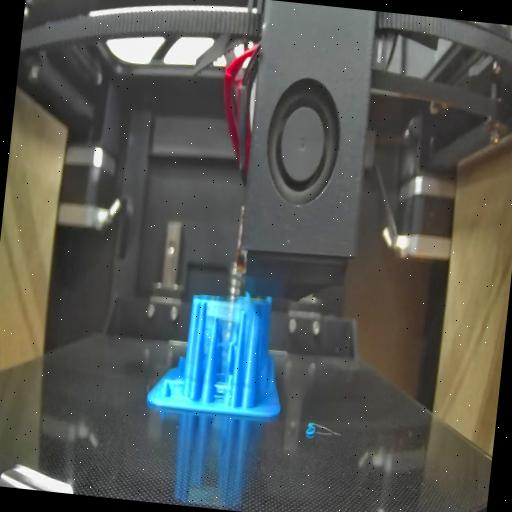stringing: (204, 296, 252, 330), (212, 375, 228, 403)
